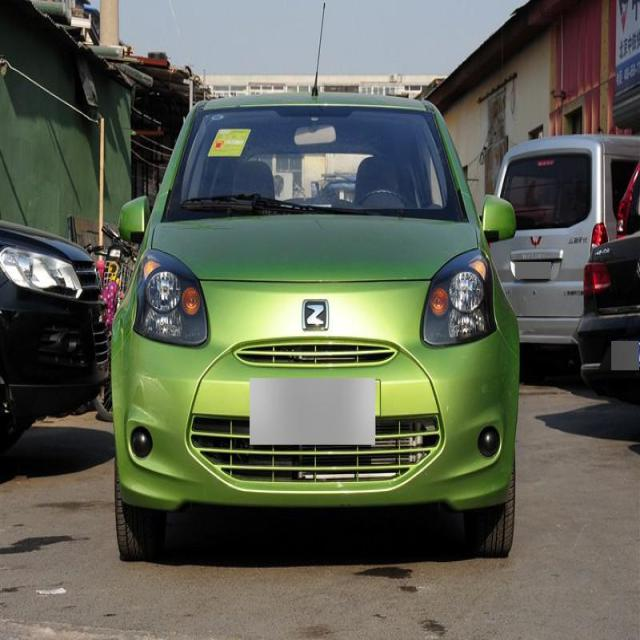front_bumper: (110, 325, 516, 514)
front_glass: (164, 103, 470, 222)
front_left_side_light: (420, 246, 497, 350)
front_left_side_mirror: (478, 190, 519, 248)
front_right_side_light: (130, 243, 212, 350)
front_right_side_mirror: (117, 194, 149, 248)
